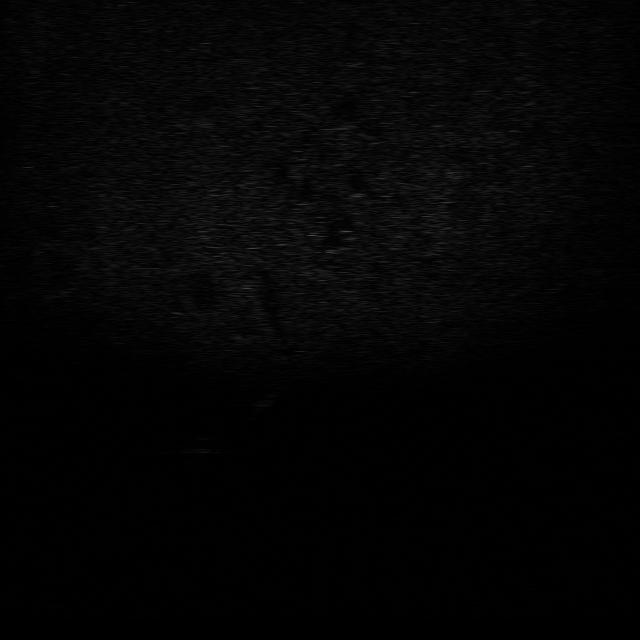ball: (184, 432, 222, 458)
human body: (244, 384, 278, 428)
